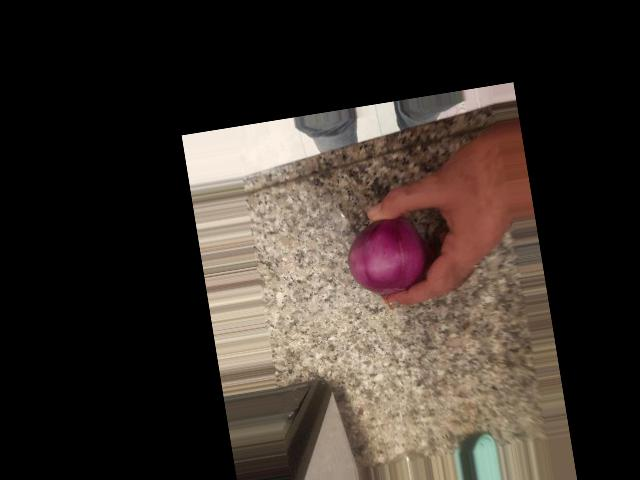onion: (342, 205, 426, 306)
